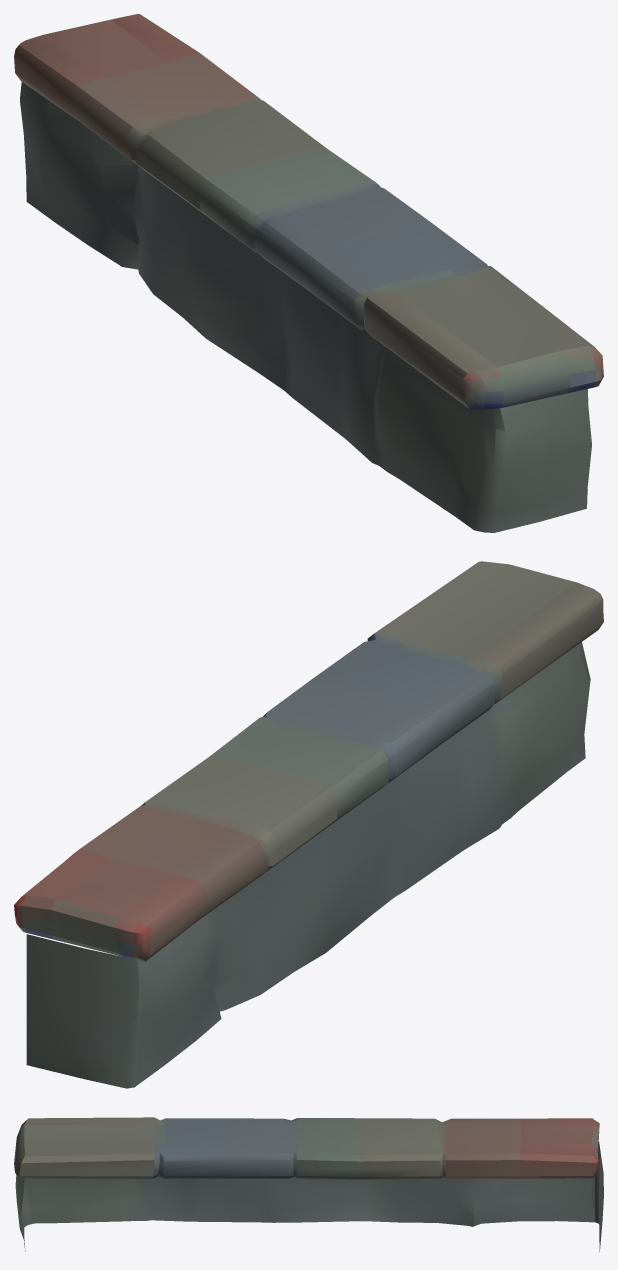
The model's file is MiniWallA.fbx.
The picture shows the model from 3 angles, top to bottom: view 1: azimuth 30°, elevation 25°; view 2: azimuth 150°, elevation 25°; view 3: azimuth 270°, elevation 25°; orthographic projection. The views are drawn at different scales.
Parts seen in each view (by area): view 1: MiniWallA; view 2: MiniWallA; view 3: MiniWallA.
Part boxes in pixels (x1,y1,x2,y2): MiniWallA: [14, 14, 603, 532]; MiniWallA: [14, 561, 603, 1088]; MiniWallA: [14, 1117, 603, 1252].
Bounding box in the file's own units: 68.29 × 79.34 × 405.
